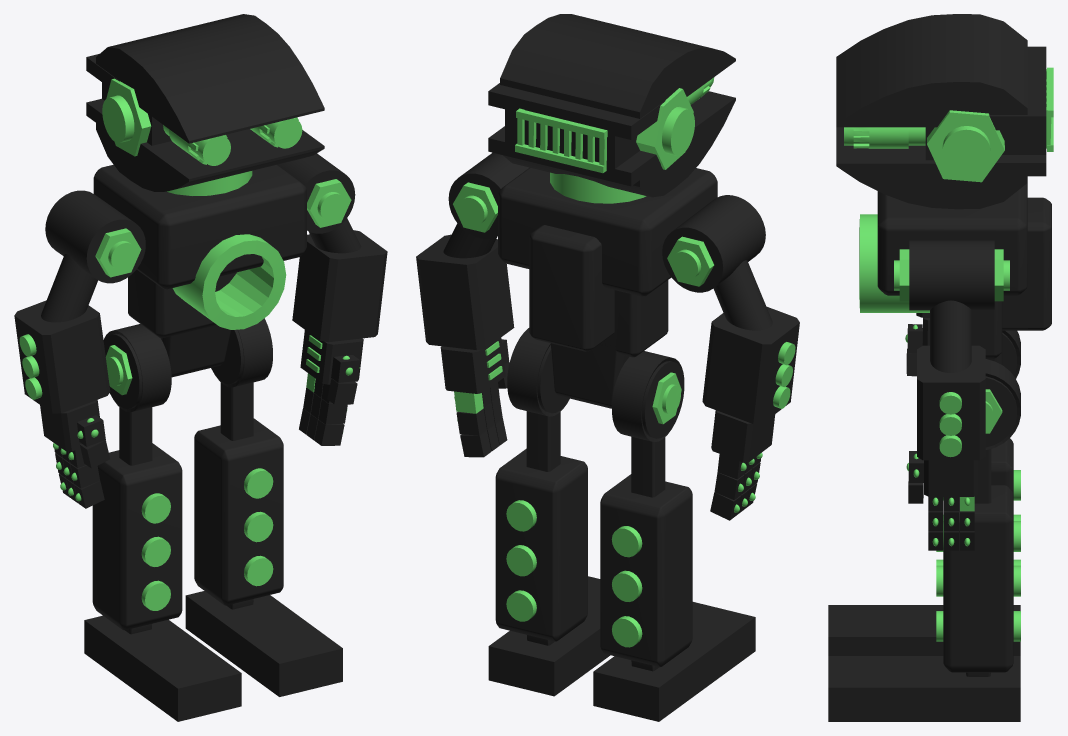
Rendered from RobotToy.fbx.
The picture shows the model from 3 angles, left to right: view 1: azimuth 30°, elevation 25°; view 2: azimuth 150°, elevation 25°; view 3: azimuth 270°, elevation 25°; orthographic projection. The views are drawn at different scales.
Visible parts, largest first — view 1: polySurface371; view 2: polySurface371; view 3: polySurface371.
Part boxes in pixels (<box>): polySurface371: <box>14,14,387,721</box>; polySurface371: <box>416,14,799,721</box>; polySurface371: <box>828,14,1053,721</box>.
Bounding box in the file's own units: 1.94 × 3.22 × 1.04.
